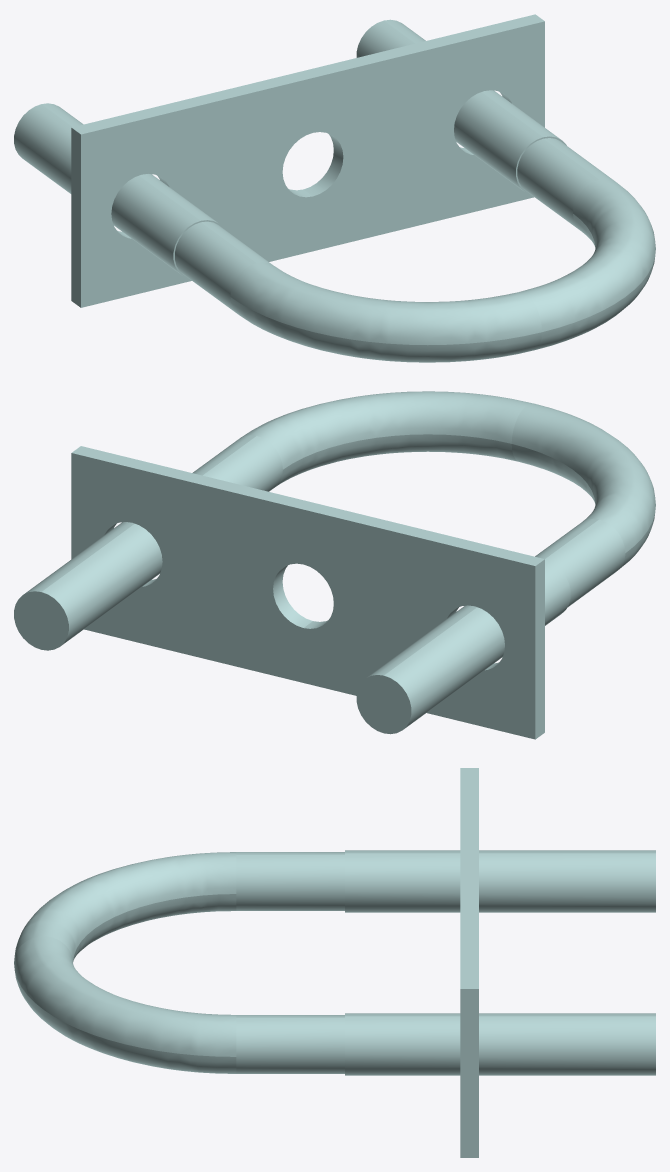
The picture shows the model from 3 angles, top to bottom: view 1: azimuth 30°, elevation 25°; view 2: azimuth 150°, elevation 25°; view 3: azimuth 270°, elevation 25°; orthographic projection. The views are drawn at different scales.
Bounding box in the file's own units: 84 × 30 × 103.
